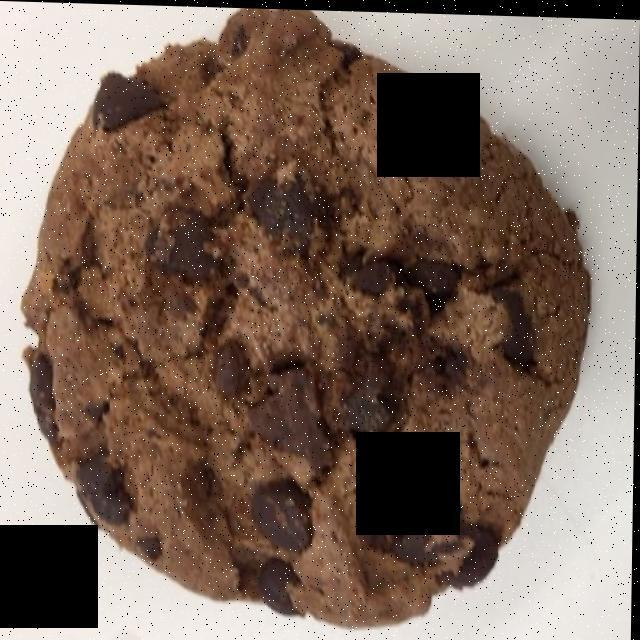cookies: (30, 19, 581, 613)
